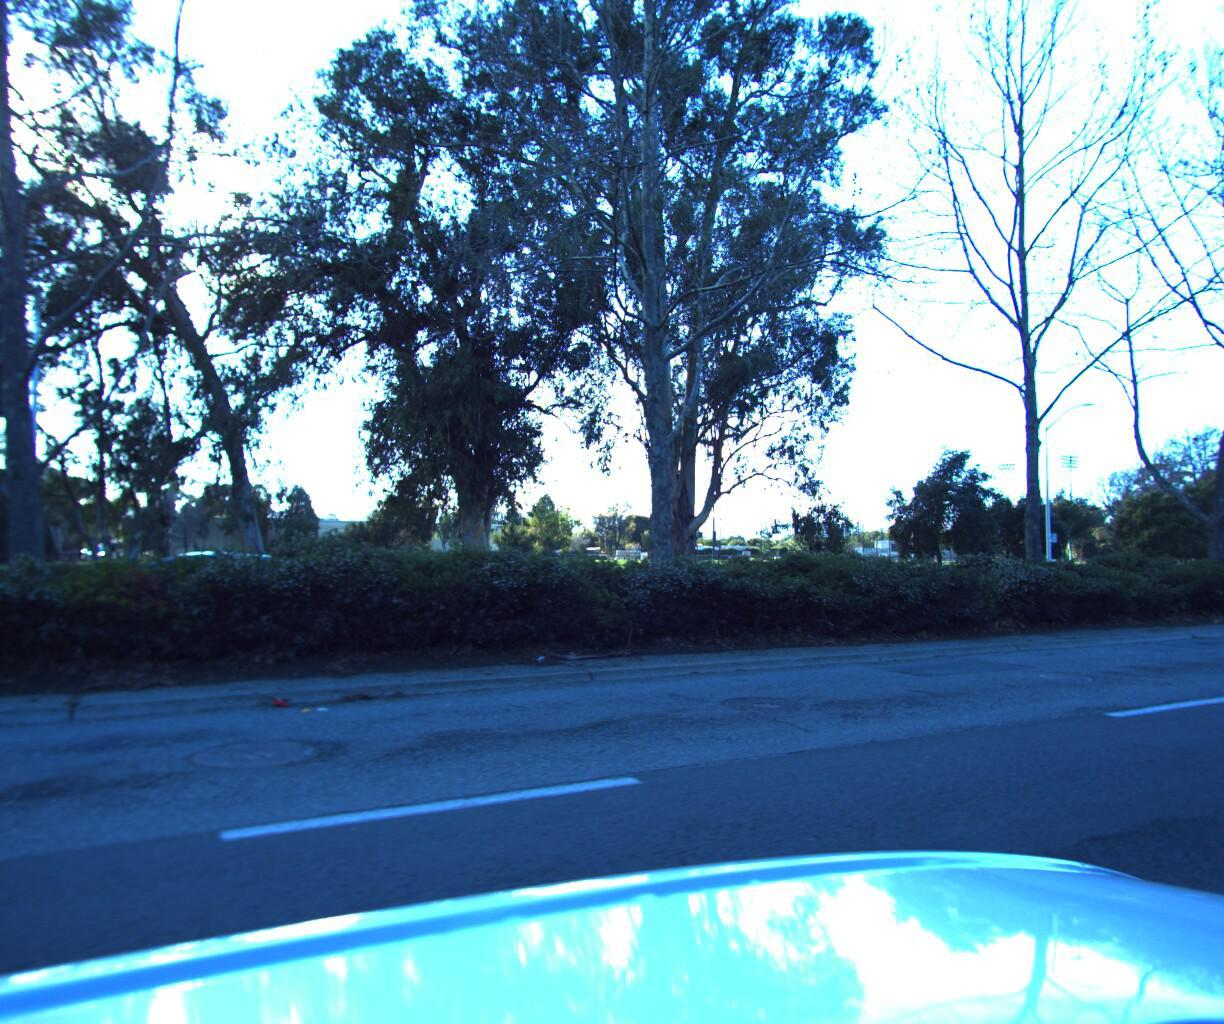car: (55, 548, 319, 638)
